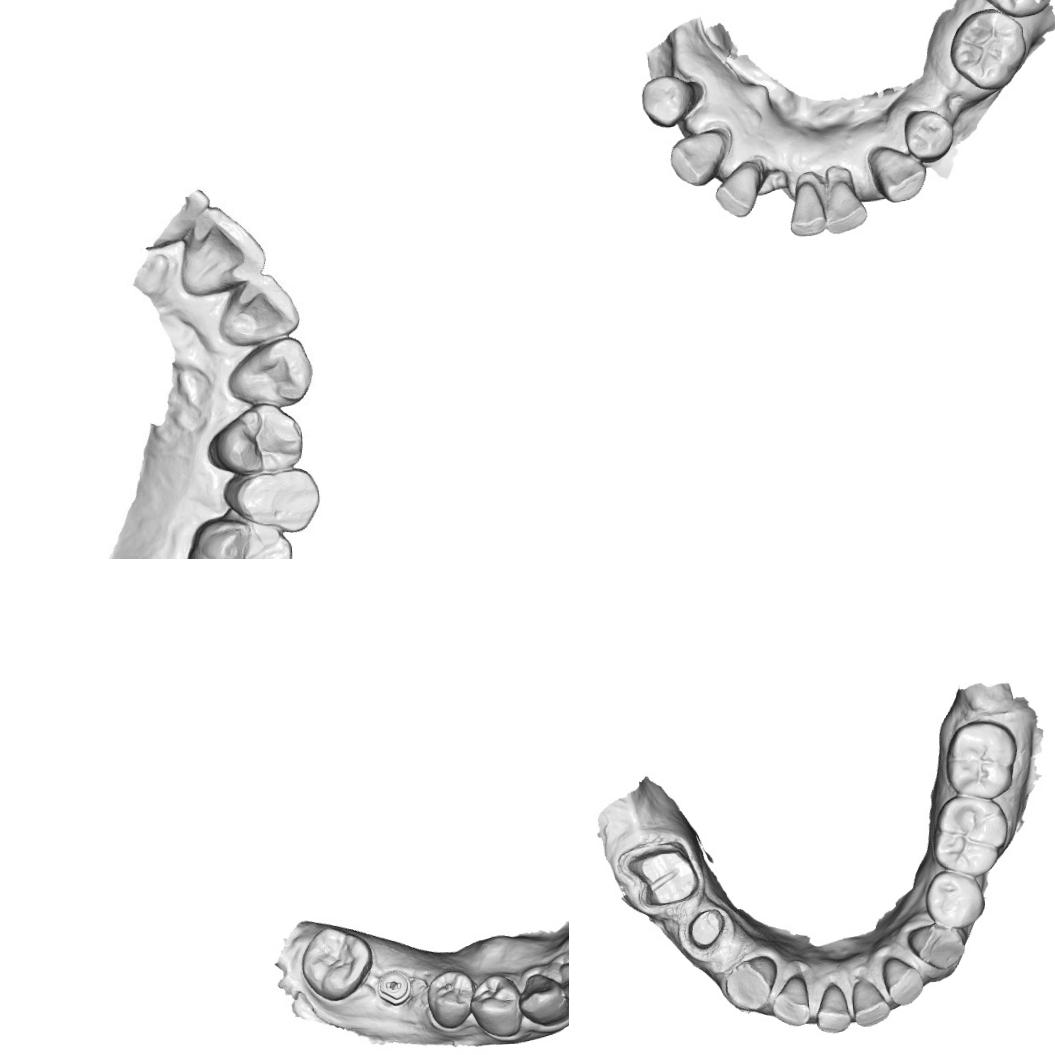canine: (221, 334, 315, 412), (865, 142, 929, 204), (666, 127, 728, 189), (722, 952, 780, 1016), (904, 921, 971, 973), (515, 970, 569, 1027)
crown: (219, 462, 323, 534), (622, 842, 704, 916), (681, 904, 730, 954)
implant_minus: (373, 965, 413, 1008)
incisor: (174, 200, 272, 297), (212, 269, 298, 350), (711, 162, 763, 218), (821, 178, 870, 236), (878, 954, 928, 1008), (784, 178, 828, 238), (766, 972, 812, 1028), (848, 974, 894, 1028), (812, 980, 853, 1036), (556, 957, 569, 1004)
molar: (927, 792, 1012, 881), (946, 5, 1029, 93), (942, 716, 1022, 803), (298, 922, 376, 1003), (176, 508, 298, 559)
premolar: (203, 396, 302, 479), (921, 866, 987, 932), (468, 970, 523, 1039), (638, 72, 696, 130), (424, 967, 475, 1030), (900, 106, 954, 164)
